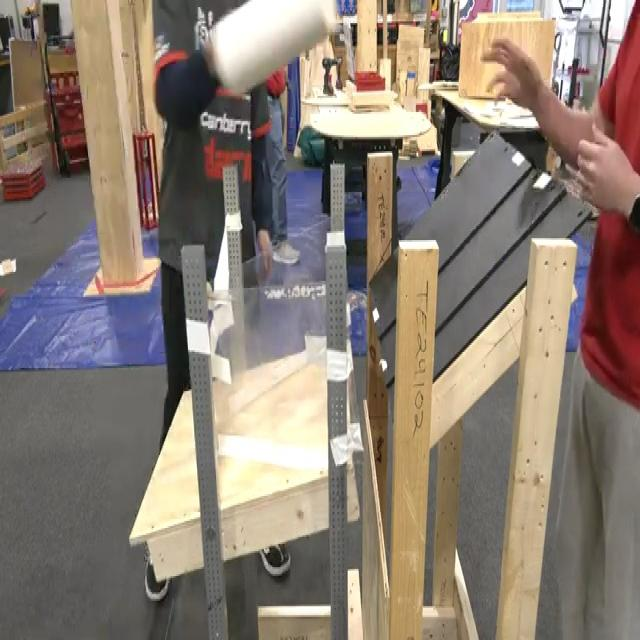Coral: (201, 0, 336, 94)
